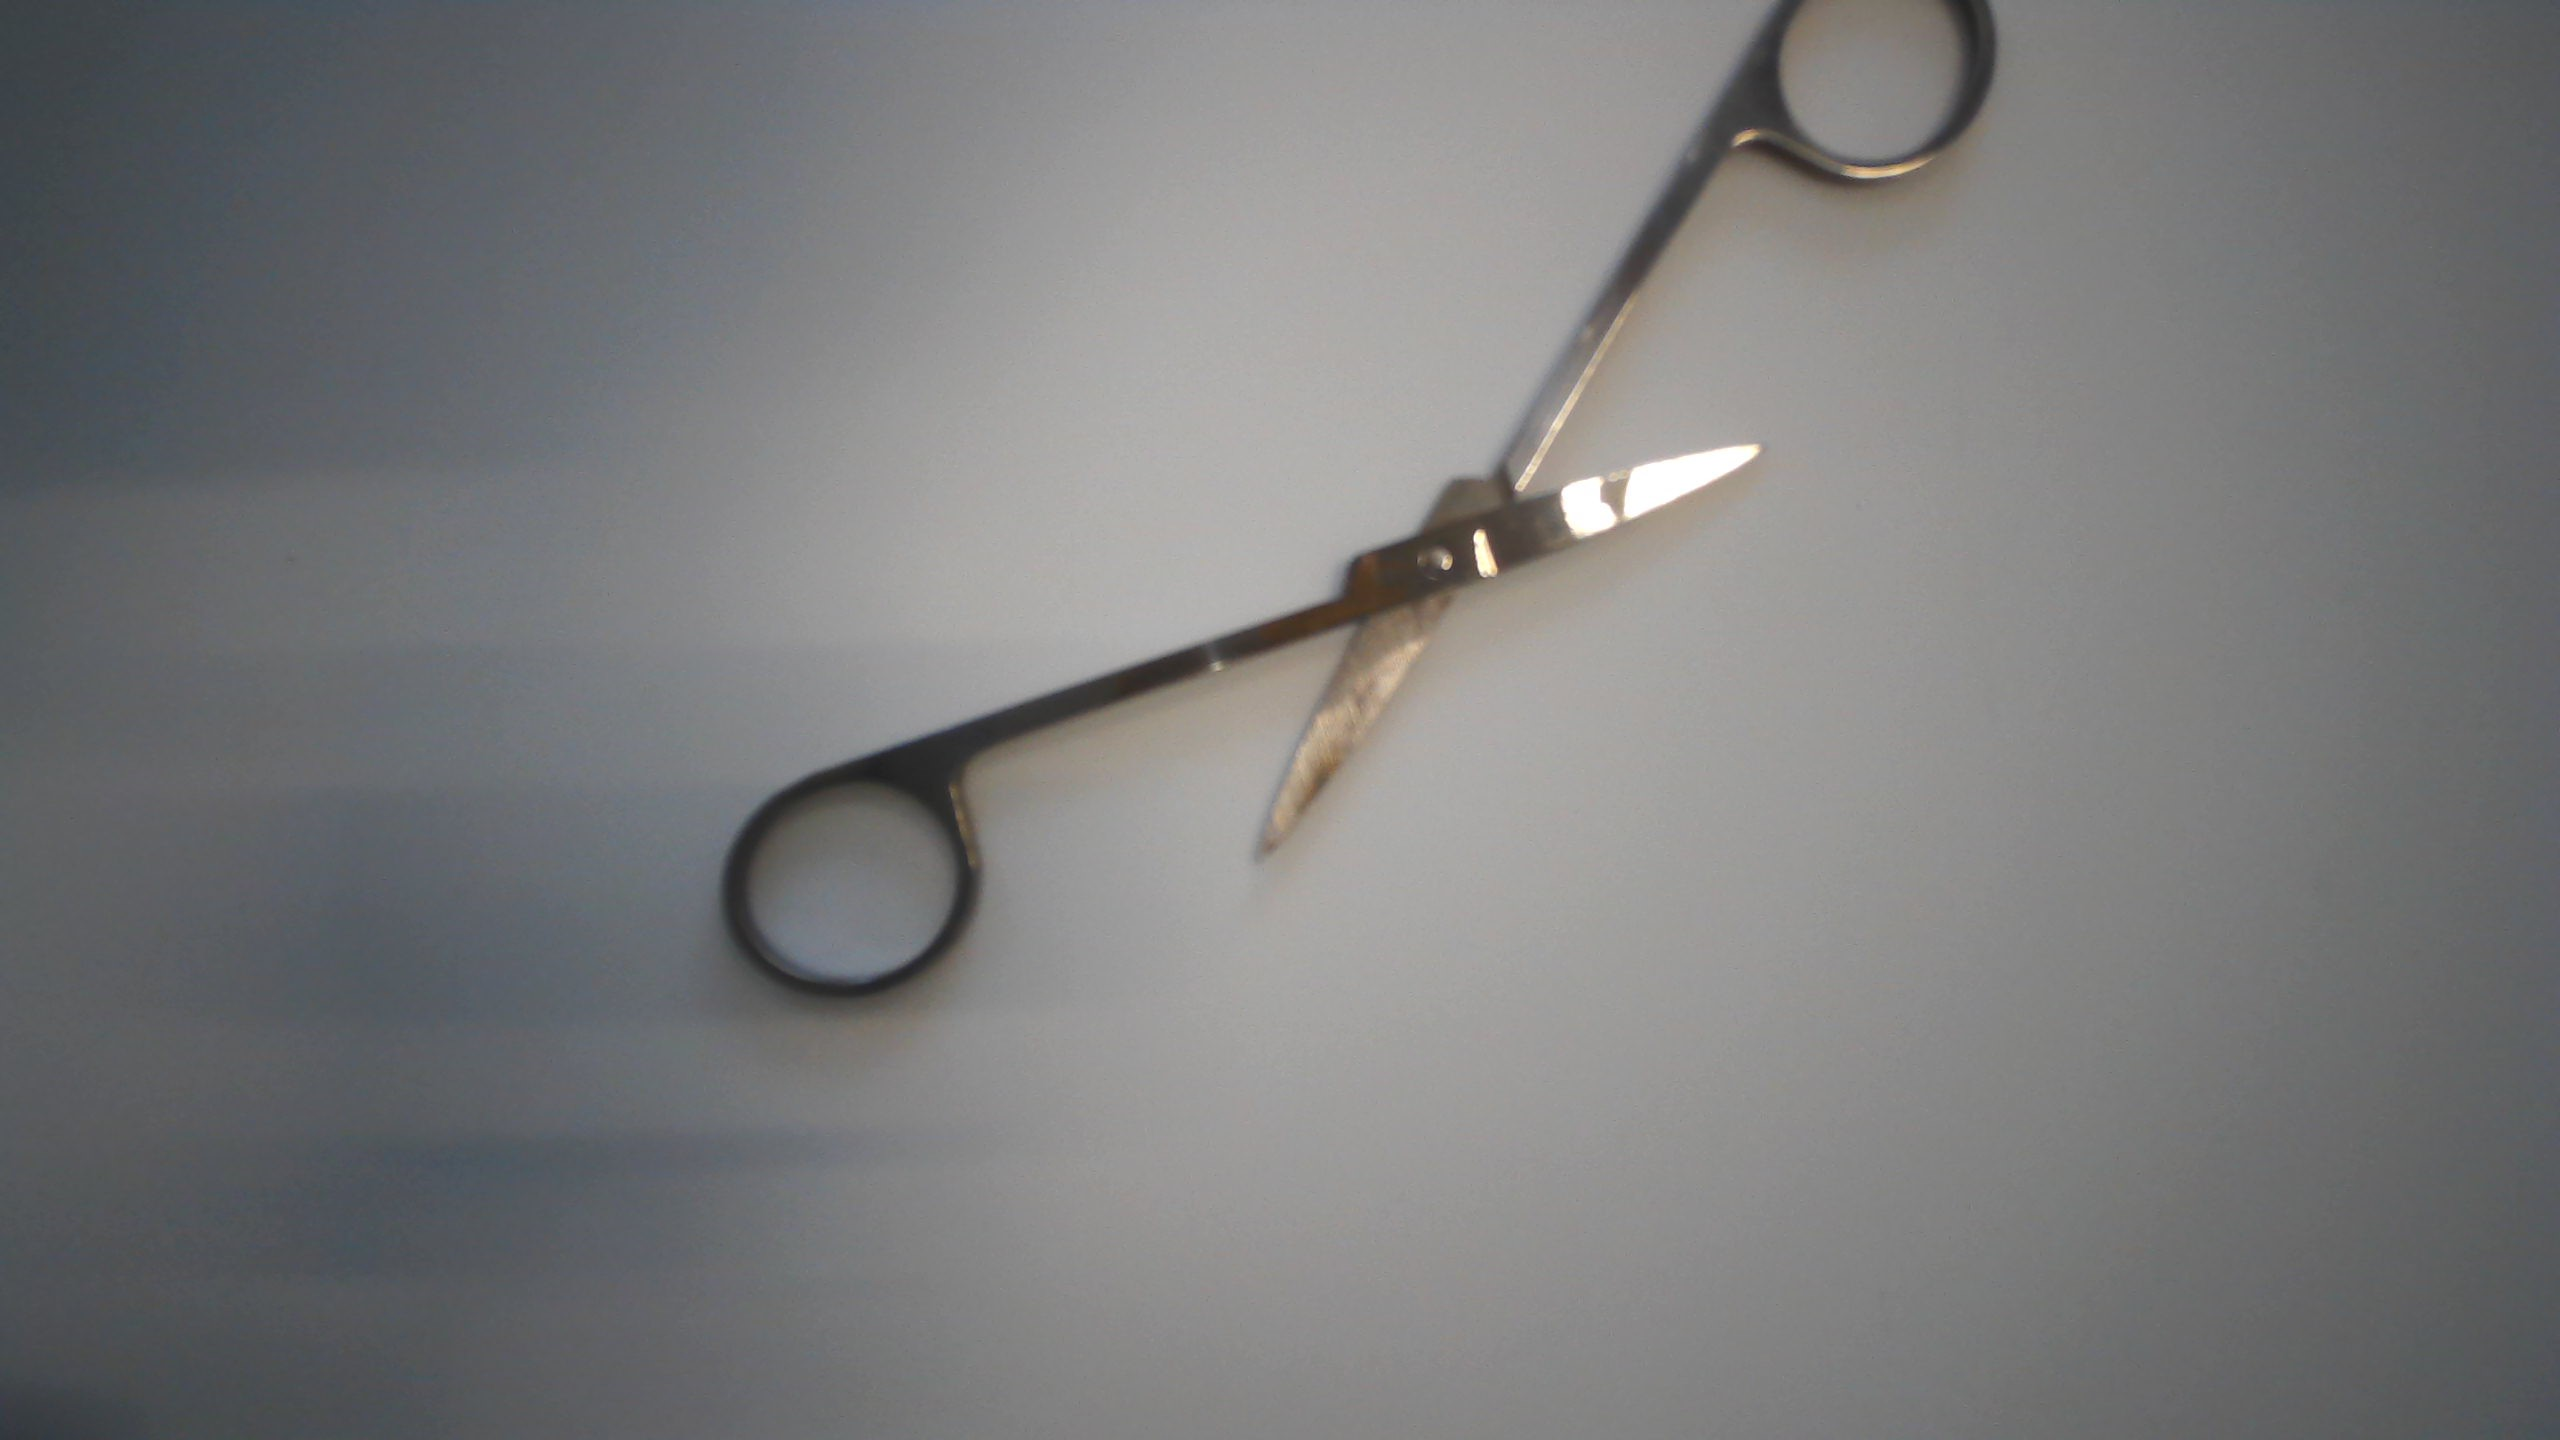Tissues: (1595, 468, 1640, 519)
